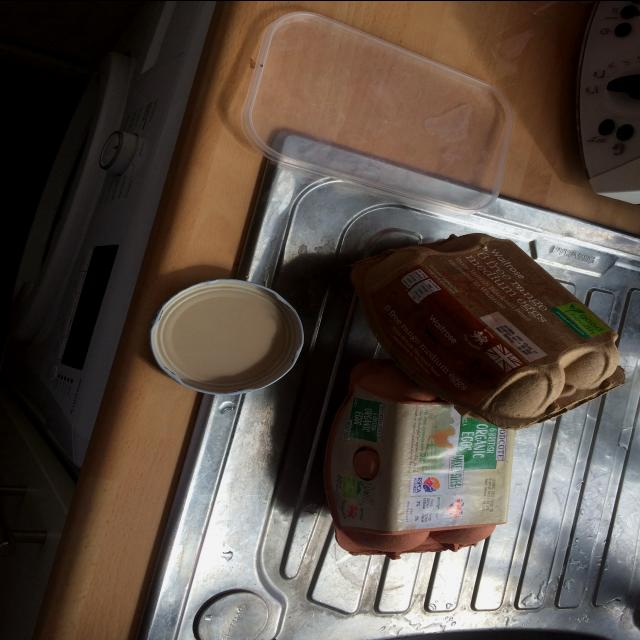Egg carton: (350, 232, 626, 429), (324, 358, 516, 559)
Metal lid: (149, 277, 304, 395)
Plastic lid: (241, 10, 515, 215)
